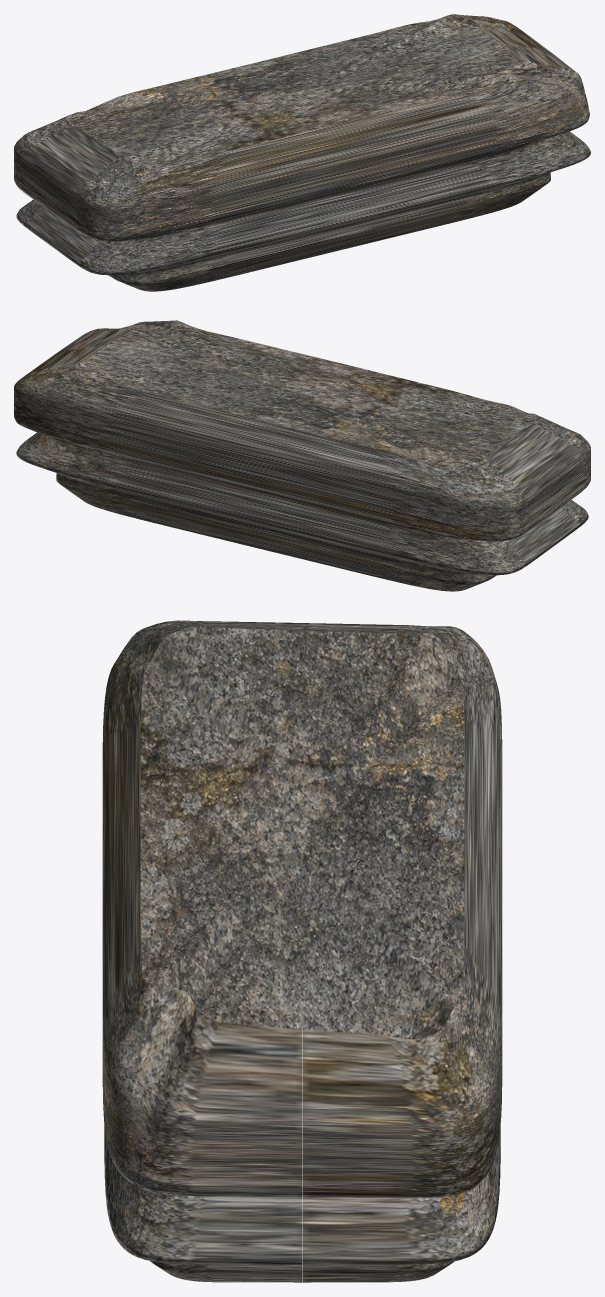
Rendered from sill_fragment.glb.
3 renders of one model, top to bottom at view 1: azimuth 30°, elevation 25°; view 2: azimuth 150°, elevation 25°; view 3: azimuth 270°, elevation 25°, orthographic. The views are drawn at different scales.
Parts seen in each view (by area): view 1: sill_fragment; view 2: sill_fragment; view 3: sill_fragment.
Boxes of the visible parts, x1,y1,x2,y2 form: sill_fragment: (14,14,590,291); sill_fragment: (14,320,590,591); sill_fragment: (102,620,502,1282).
Bounding box in the file's own units: 1.64 × 0.4148 × 0.56.
Materials: 1 (1 with a texture image).
